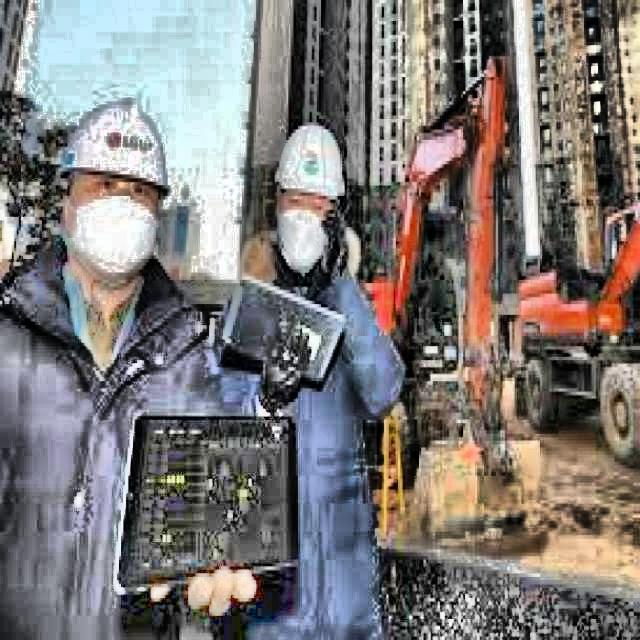bull_dozer/loader/grader: (366, 54, 526, 561), (517, 200, 640, 464)
person: (0, 97, 257, 640), (220, 120, 407, 640)
